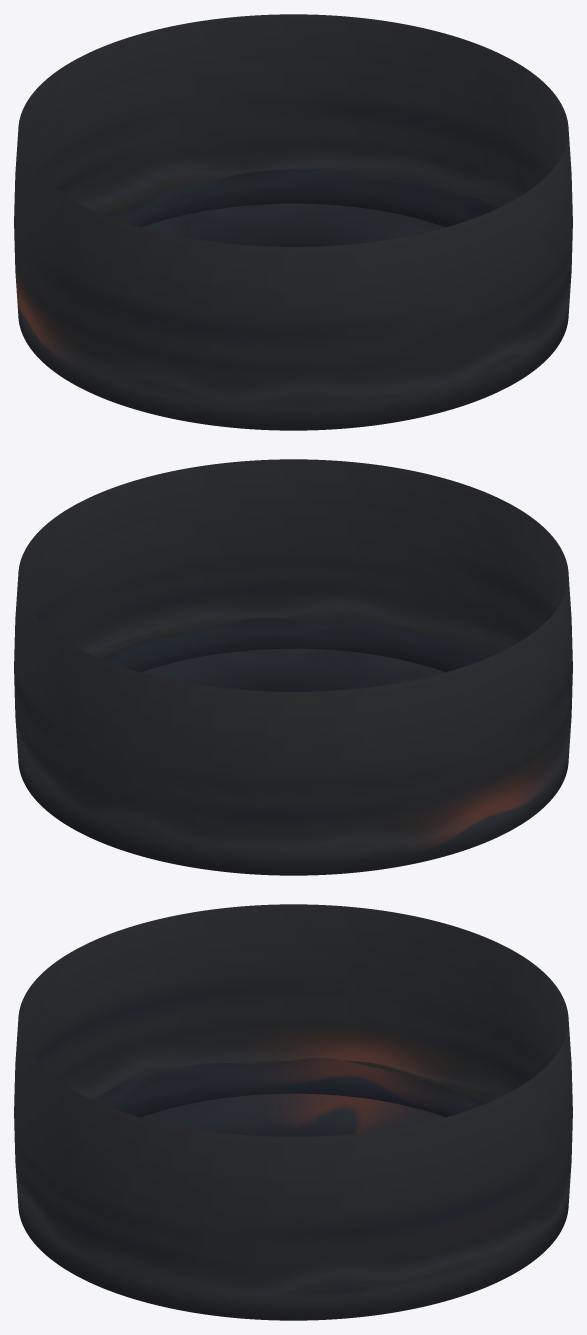
Rendered from canyon-works-panorama.glb.
The picture shows the model from 3 angles, top to bottom: view 1: azimuth 30°, elevation 25°; view 2: azimuth 150°, elevation 25°; view 3: azimuth 270°, elevation 25°; orthographic projection.
Parts seen in each view (by area): view 1: CanyonWorksPanorama; view 2: CanyonWorksPanorama; view 3: CanyonWorksPanorama.
Boxes of the visible parts, box(x1,y1,x2,y2) form: CanyonWorksPanorama: box(14, 14, 572, 430); CanyonWorksPanorama: box(14, 459, 572, 875); CanyonWorksPanorama: box(14, 904, 572, 1320).
Size of the model in its own units: 386 by 140 by 386.
1 material, 1 textured.
